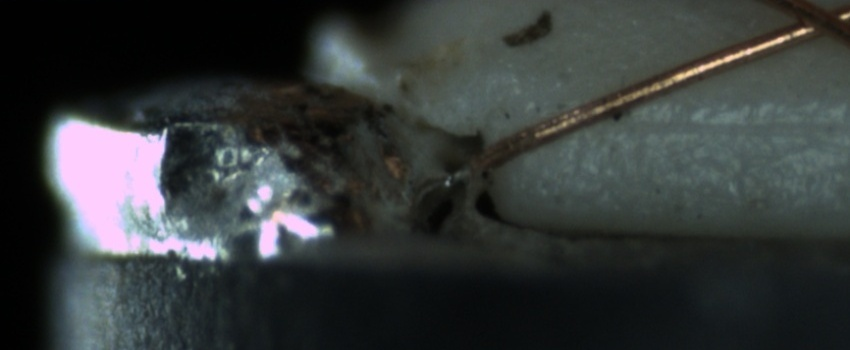CL: (765, 1, 849, 46)
DL: (575, 93, 844, 156)
